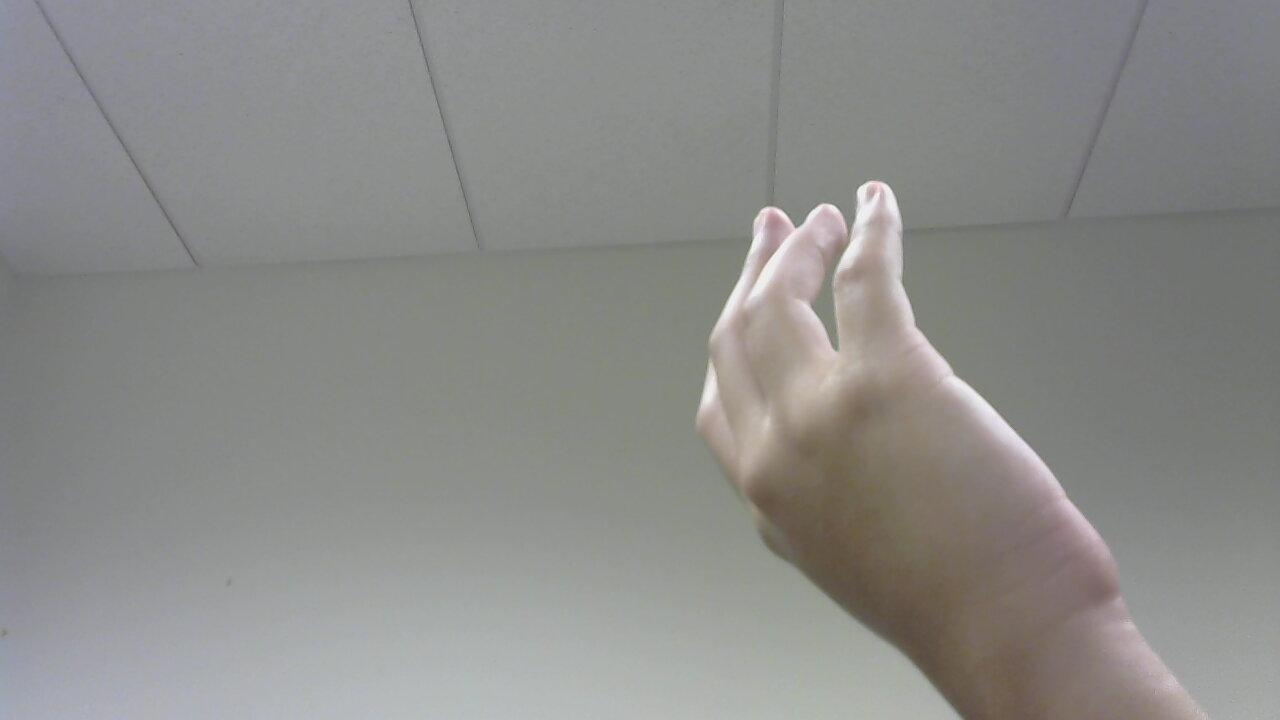hands: (691, 160, 1208, 691)
